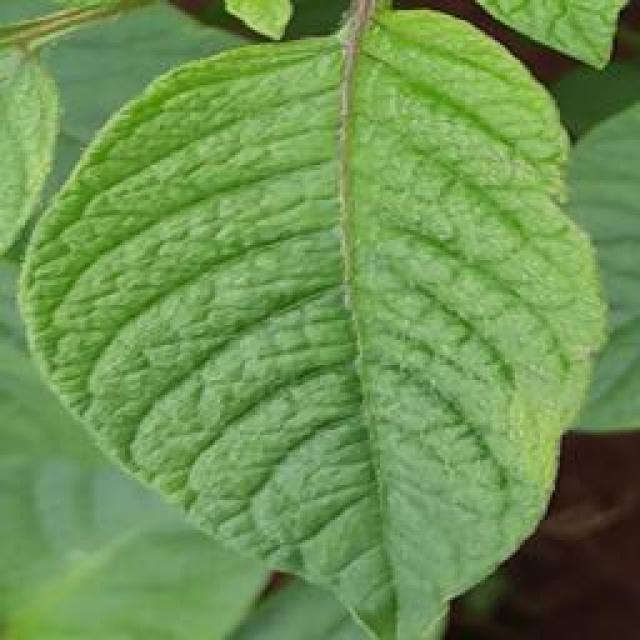healthy: (12, 2, 612, 638)
